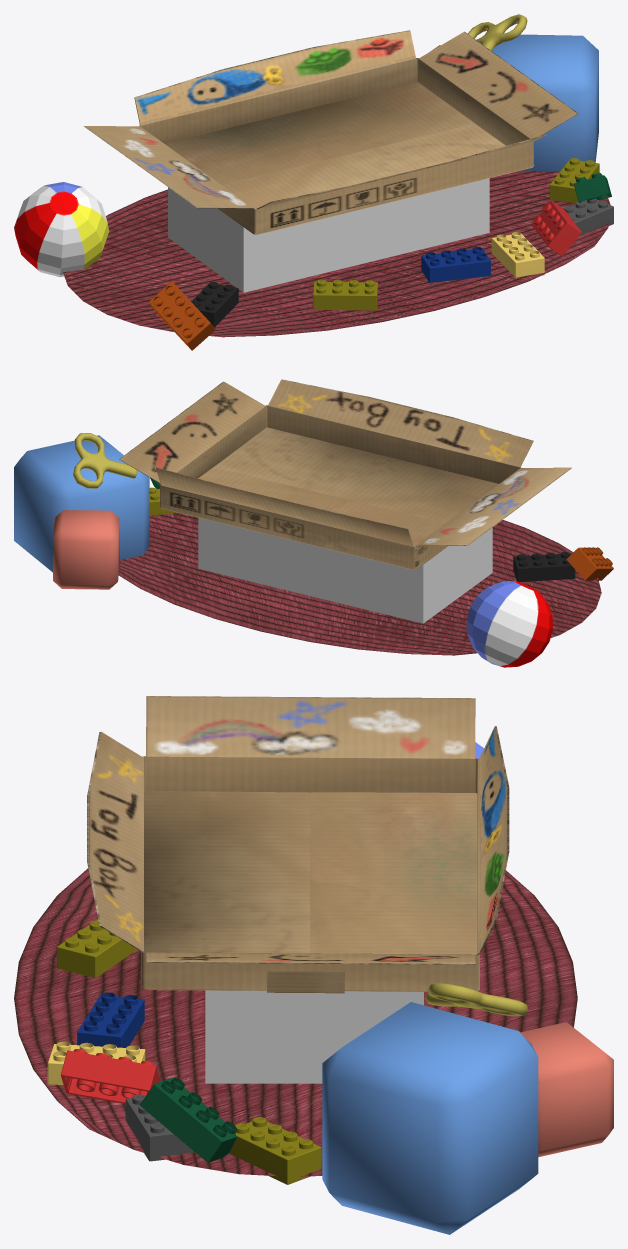
File: toyboxBg.fbx
3 views of the same model, one above another, from view 1: azimuth 30°, elevation 25°; view 2: azimuth 150°, elevation 25°; view 3: azimuth 270°, elevation 25° (orthographic). The views are drawn at different scales.
Visible parts, largest first — view 1: Cardboard, Plane.001, Cube, BlueCube, Beach Ball, Lego with Bump.003_Green_0, Lego with Bump.002_Blue_0, Lego with Text_Yellow_0.001, Lego with Bump.004_Gold_0, Lego with Text.003_Red_0, Lego with Text.001_Black_0, Lego with Text_Yellow_0 (+3 smaller); view 2: Cardboard, Plane.001, Cube, BlueCube, Beach Ball, RedCube, Plane.005, Lego with Text.001_Black_0, Lego with Bump.003_Green_0; view 3: Cardboard, BlueCube, Plane.001, Cube, RedCube, Lego with Bump_Orange_0, Lego with Text_Yellow_0, Lego with Text.003_Red_0, Lego with Bump.002_Blue_0, Lego with Text_Yellow_0.001, Lego with Text.002_Grey_0, Plane.005 (+1 smaller).
Part boxes in pixels (left/top/right/bottom): Cardboard: left=83, top=30, right=578, bottom=234; Plane.001: left=63, top=170, right=610, bottom=337; Cube: left=168, top=178, right=489, bottom=292; BlueCube: left=492, top=34, right=598, bottom=171; Beach Ball: left=14, top=182, right=109, bottom=277; Lego with Bump.003_Green_0: left=148, top=281, right=215, bottom=350; Lego with Bump.002_Blue_0: left=421, top=247, right=490, bottom=282; Lego with Text_Yellow_0.001: left=313, top=279, right=377, bottom=310; Lego with Bump.004_Gold_0: left=491, top=232, right=544, bottom=277; Lego with Text.003_Red_0: left=532, top=200, right=581, bottom=256; Lego with Text.001_Black_0: left=191, top=282, right=238, bottom=327; Lego with Text_Yellow_0: left=549, top=158, right=599, bottom=203; Cardboard: left=119, top=379, right=571, bottom=569; Plane.001: left=118, top=512, right=601, bottom=655; Cube: left=198, top=517, right=492, bottom=623; BlueCube: left=14, top=435, right=149, bottom=572; Beach Ball: left=466, top=581, right=553, bottom=667; RedCube: left=53, top=510, right=119, bottom=589; Plane.005: left=73, top=433, right=137, bottom=488; Lego with Text.001_Black_0: left=513, top=551, right=575, bottom=581; Lego with Bump.003_Green_0: left=566, top=547, right=613, bottom=580; Cardboard: left=87, top=696, right=509, bottom=993; BlueCube: left=322, top=1002, right=538, bottom=1234; Plane.001: left=14, top=868, right=577, bottom=1176; Cube: left=205, top=990, right=423, bottom=1083; RedCube: left=520, top=1022, right=613, bottom=1157; Lego with Bump_Orange_0: left=140, top=1077, right=236, bottom=1162; Lego with Text_Yellow_0: left=229, top=1117, right=321, bottom=1184; Lego with Text.003_Red_0: left=61, top=1049, right=160, bottom=1103; Lego with Bump.002_Blue_0: left=77, top=992, right=144, bottom=1047; Lego with Text_Yellow_0.001: left=57, top=919, right=137, bottom=977; Lego with Text.002_Grey_0: left=125, top=1094, right=193, bottom=1161; Plane.005: left=426, top=983, right=527, bottom=1016.
Size of what is drawn, in the model's own units: 7129 by 1878 by 4444.
